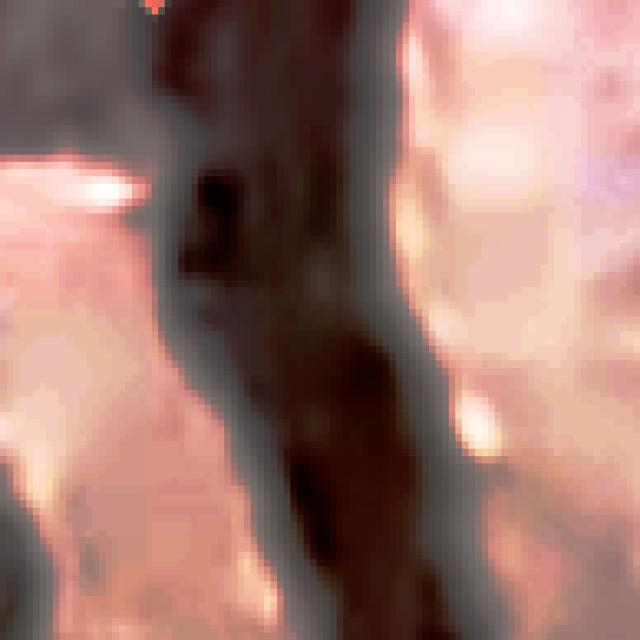arms: (0, 0, 132, 88)
